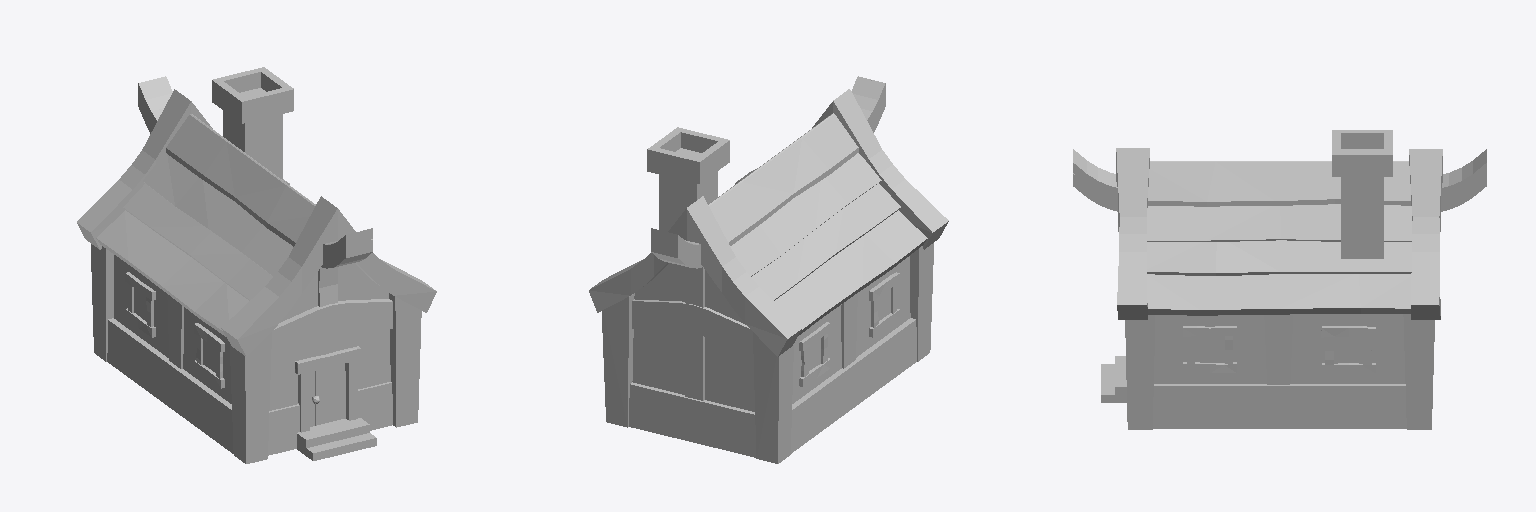
The model's file is cabin.obj.
3 views of the same model, side by side, from view 1: azimuth 30°, elevation 25°; view 2: azimuth 150°, elevation 25°; view 3: azimuth 270°, elevation 25° (orthographic).
Parts seen in each view (by area): view 1: cabin; view 2: cabin; view 3: cabin.
Part boxes in pixels (x1,y1,x2,y2): cabin: (77, 67, 436, 463); cabin: (589, 76, 948, 463); cabin: (1073, 130, 1486, 429).
Bounding box in the file's own units: 24.38 × 30.83 × 43.82.